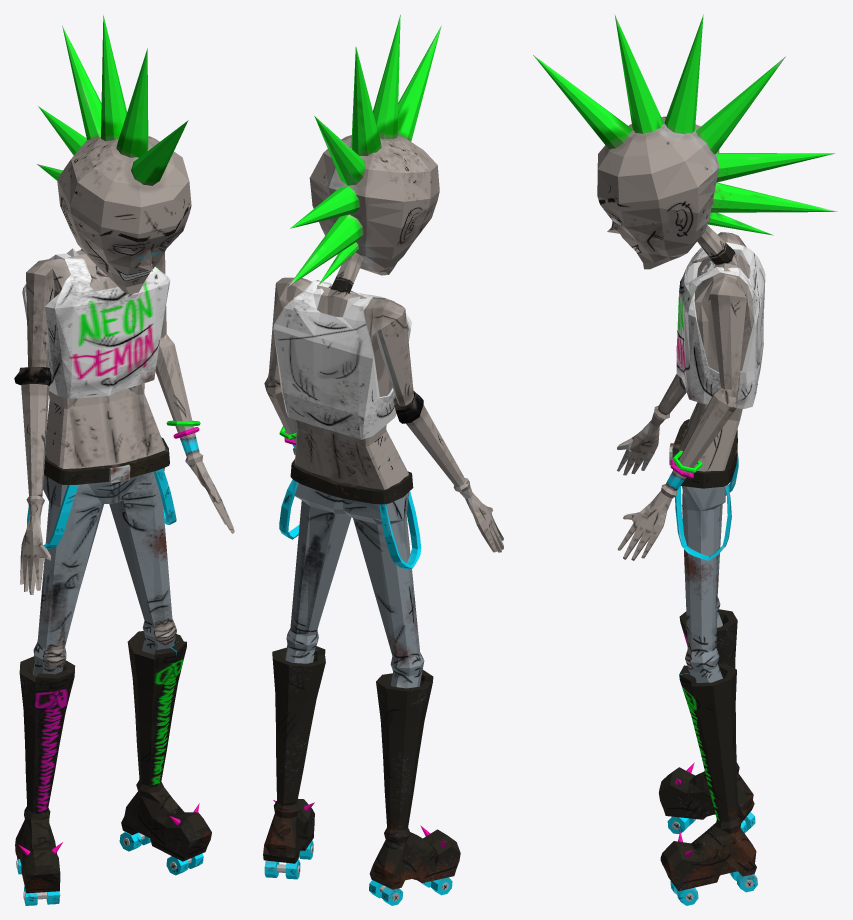
File: punkAnimation_000000.obj
3 views of the same model, side by side, from view 1: azimuth 30°, elevation 25°; view 2: azimuth 150°, elevation 25°; view 3: azimuth 270°, elevation 25° (orthographic). The views are drawn at different scales.
Parts seen in each view (by area): view 1: Cube.004_Cube.003; view 2: Cube.004_Cube.003; view 3: Cube.004_Cube.003.
Part boxes in pixels (x1=…): Cube.004_Cube.003: x1=14, y1=15, x2=234, y2=905; Cube.004_Cube.003: x1=263, y1=14, x2=503, y2=905; Cube.004_Cube.003: x1=533, y1=14, x2=837, y2=905.
Size of the model in its own units: 1.89 by 7.52 by 2.45.
